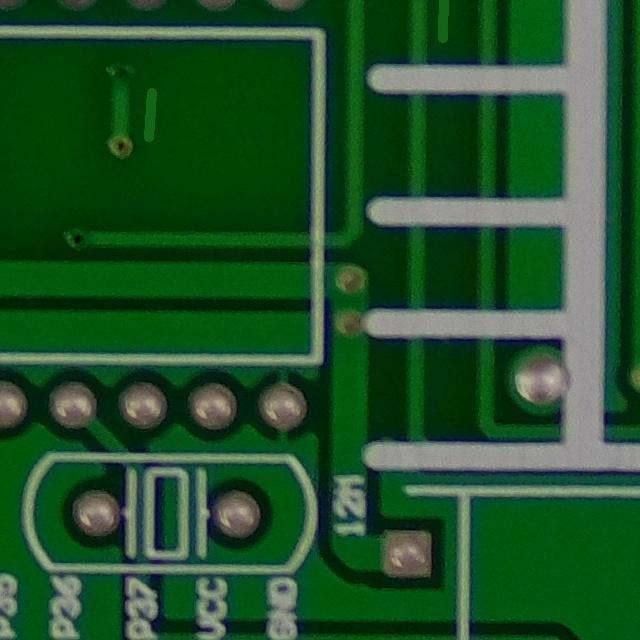spurious_copper: (123, 72, 174, 156), (415, 0, 479, 54)
